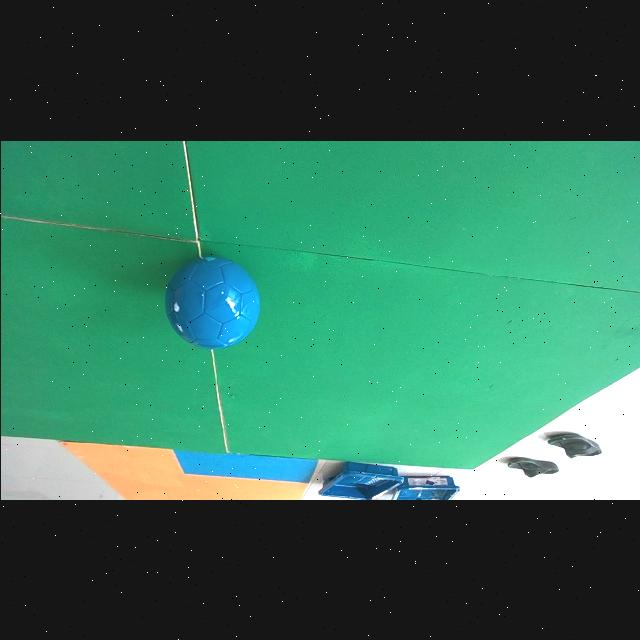B: (164, 256, 259, 349)
